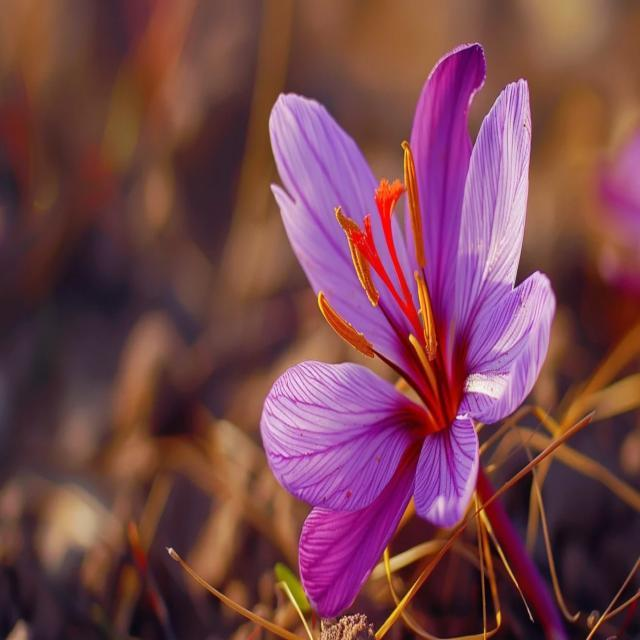Flower: (262, 44, 560, 615)
stigma: (314, 289, 435, 415), (335, 206, 428, 346), (369, 177, 432, 340)
